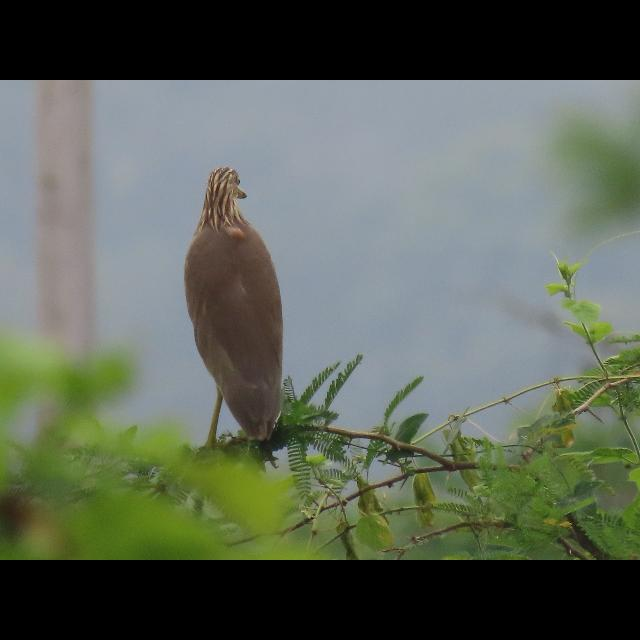heron: (186, 163, 288, 447)
